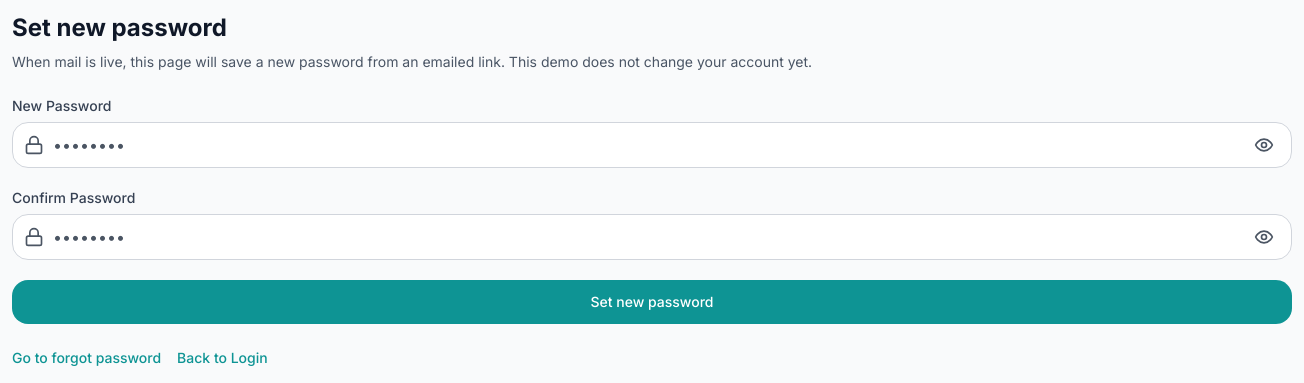
ResetPasswordPage › accepts new password fields with a token without saving
Type "changed99" into the password field labelled "New Password".
click(652, 145); type("changed99")  # box [12, 122, 1292, 168]
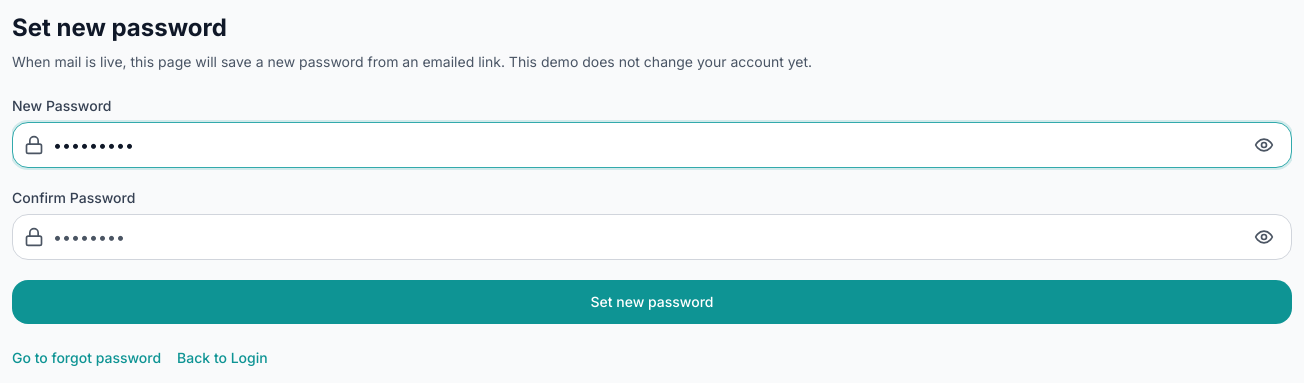
Type "changed99" into the password field labelled "Confirm Password".
click(652, 237); type("changed99")  # box [12, 214, 1292, 260]
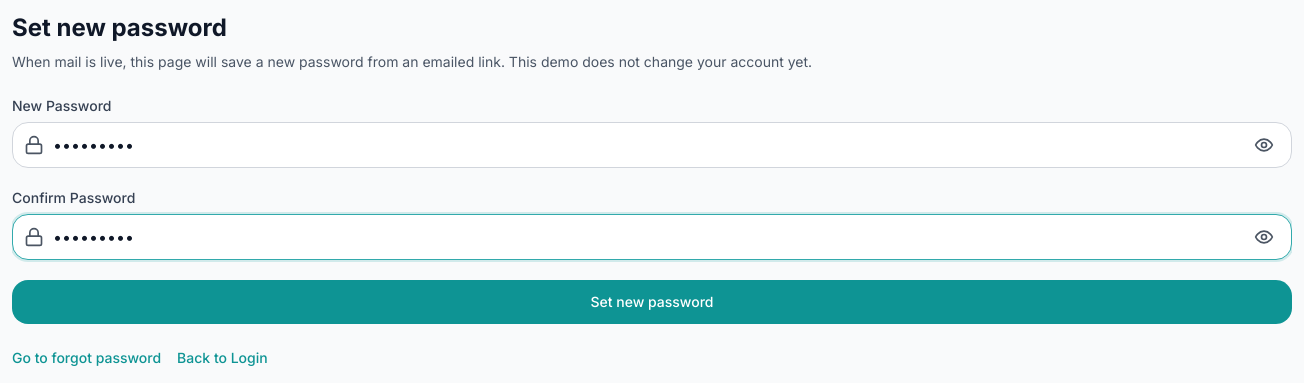
Click the button "Set new password".
click(652, 302)  # box [12, 280, 1292, 324]
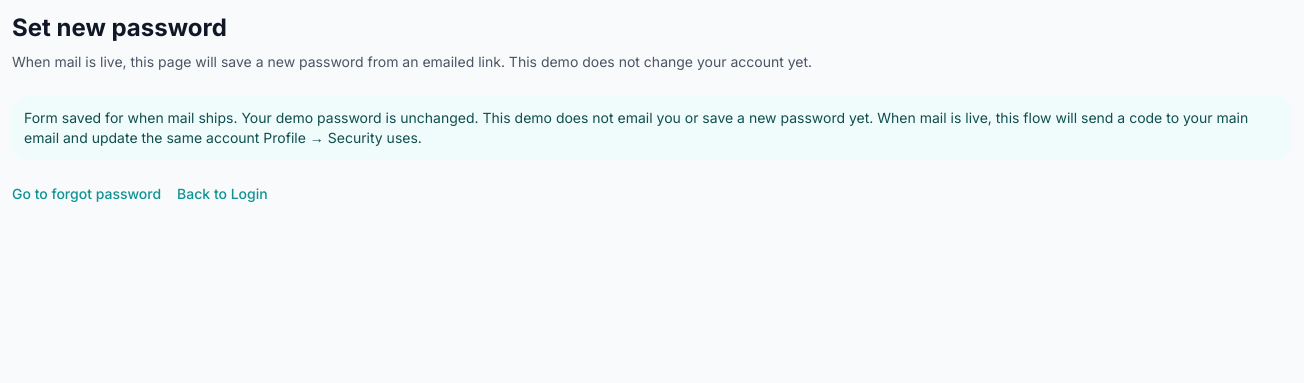
Now the text "demo password is unchanged" is shown, box [24, 109, 1248, 146]
